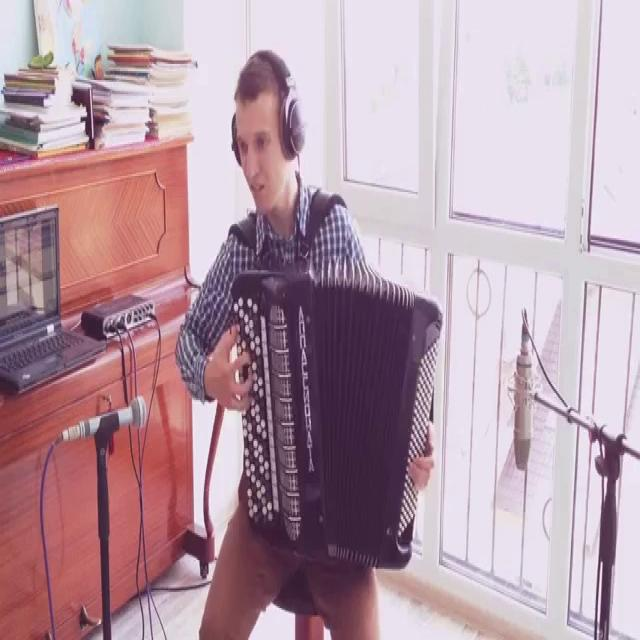Accordion: (234, 265, 440, 571)
